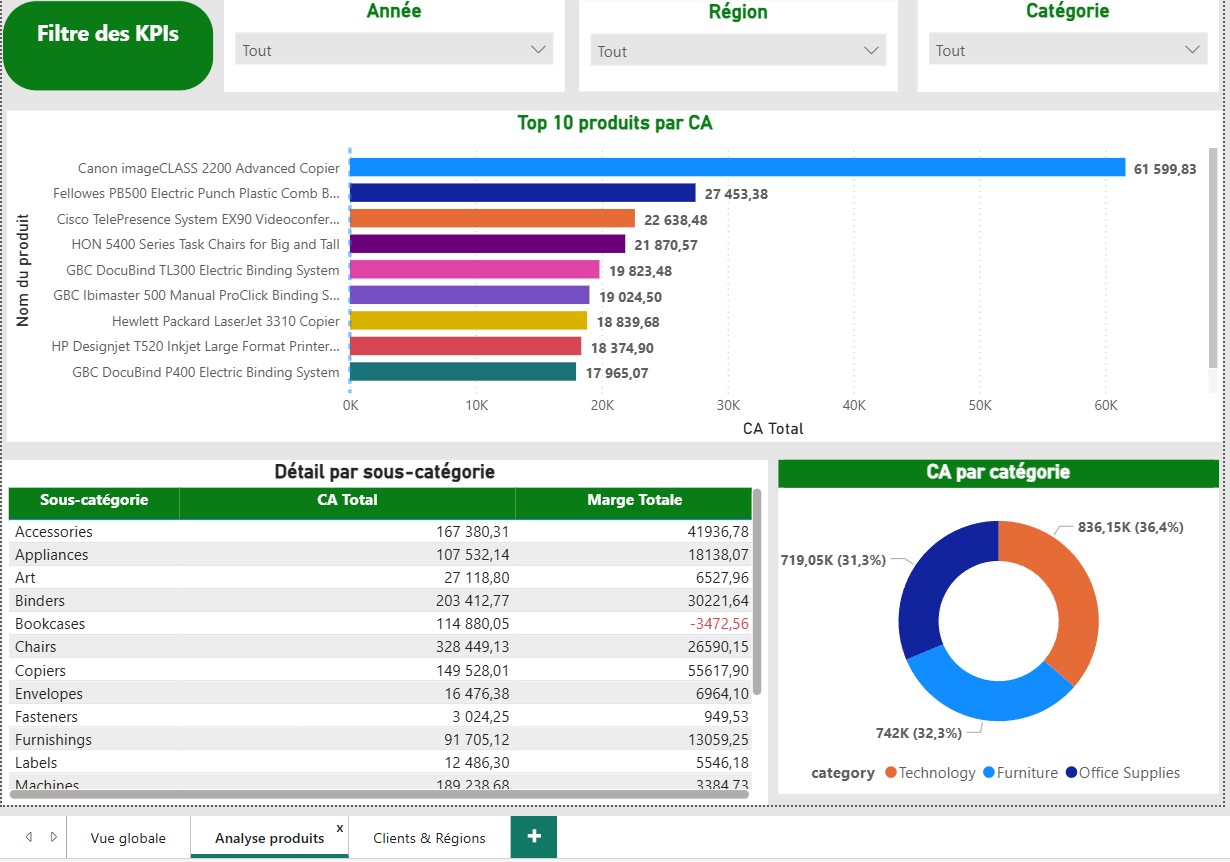

The dashboard page shown, as its layout file describes it:
{"tool":"powerbi","page":{"name":"Analyse produits","canvas":[1060,700],"ordinal":1},"visuals":[{"type":"textbox","box":[0,1.1,183.9,79.6],"z":0},{"type":"barChart","title":"Top 10 produits par CA","fields":{"Category":["dim_product.product_name"],"Y":["Sum(fact_sales.sales_amount)"],"Series":["dim_product.product_name"]},"box":[4.4,96.7,1056,287.9],"z":1000},{"type":"donutChart","title":"CA par catégorie","fields":{"Category":["dim_product.category"],"Y":["Sum(fact_sales.sales_amount)"]},"box":[673.6,400,382.4,290.1],"z":2000},{"type":"tableEx","title":"Détail par sous-catégorie","fields":{"Values":["dim_product.sub_category","Sum(fact_sales.sales_amount)","Sum(fact_sales.profit)"]},"box":[0,400,664.8,300],"z":3000},{"type":"slicer","title":"Année","fields":{"Values":["dim_date.year"]},"box":[192.5,0,295.7,80.6],"z":4000},{"type":"slicer","title":"Région","fields":{"Values":["dim_region.region"]},"box":[501.1,1.1,276.3,79.6],"z":5000},{"type":"slicer","title":"Catégorie","fields":{"Values":["dim_product.category"]},"box":[794.6,0,261.3,80.6],"z":6000}]}

Visuals, with their boxes on the page's 1060x700 design canvas (x1, y1, x2, y2). These are canvas units, not pixel positions in the 1230x862 screenshot, which may show the page scaled, cropped or inside an application window:
textbox: pyautogui.locateOnScreen(0, 1, 184, 81)
"Top 10 produits par CA" barChart: pyautogui.locateOnScreen(4, 97, 1060, 385)
"CA par catégorie" donutChart: pyautogui.locateOnScreen(674, 400, 1056, 690)
"Détail par sous-catégorie" tableEx: pyautogui.locateOnScreen(0, 400, 665, 700)
"Année" slicer: pyautogui.locateOnScreen(192, 0, 488, 81)
"Région" slicer: pyautogui.locateOnScreen(501, 1, 777, 81)
"Catégorie" slicer: pyautogui.locateOnScreen(795, 0, 1056, 81)
